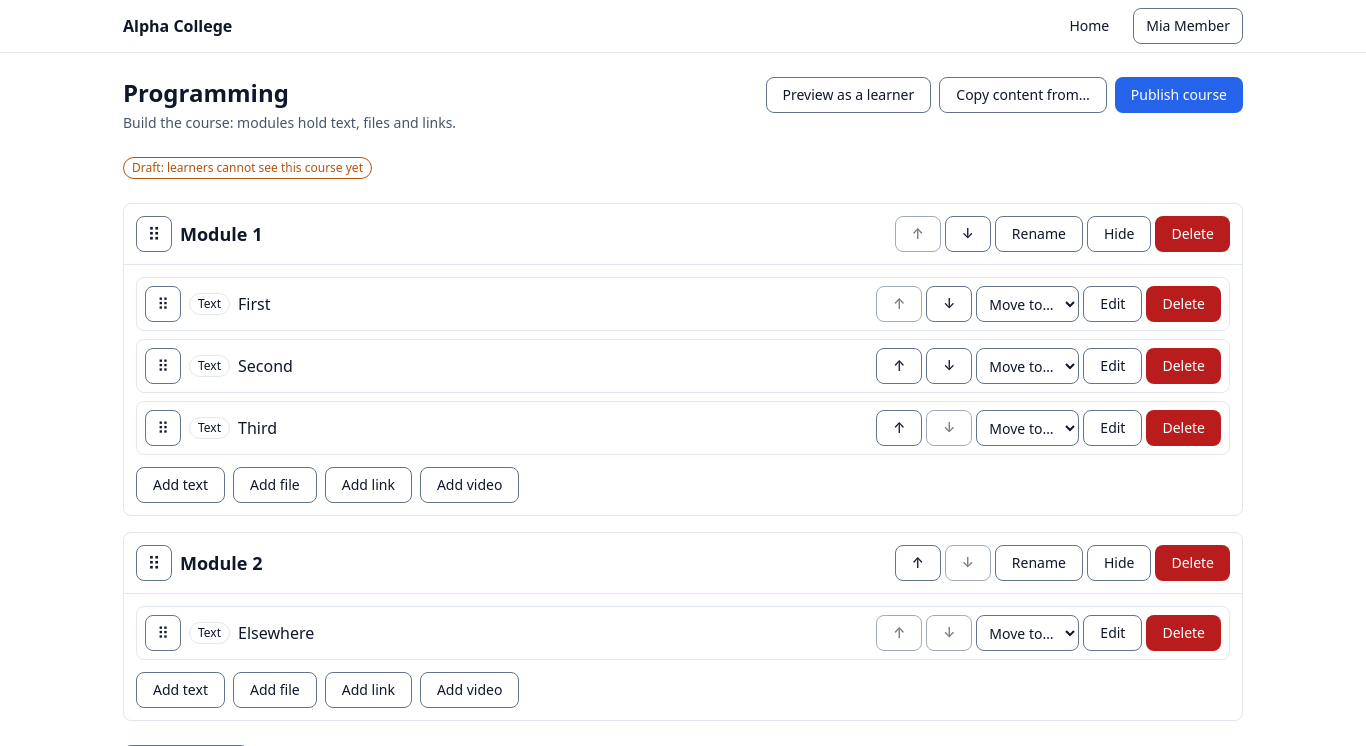
it: the builder › publishes the course from the builder
Click the button "Publish course": click(1179, 95) [1115,77,1243,113]
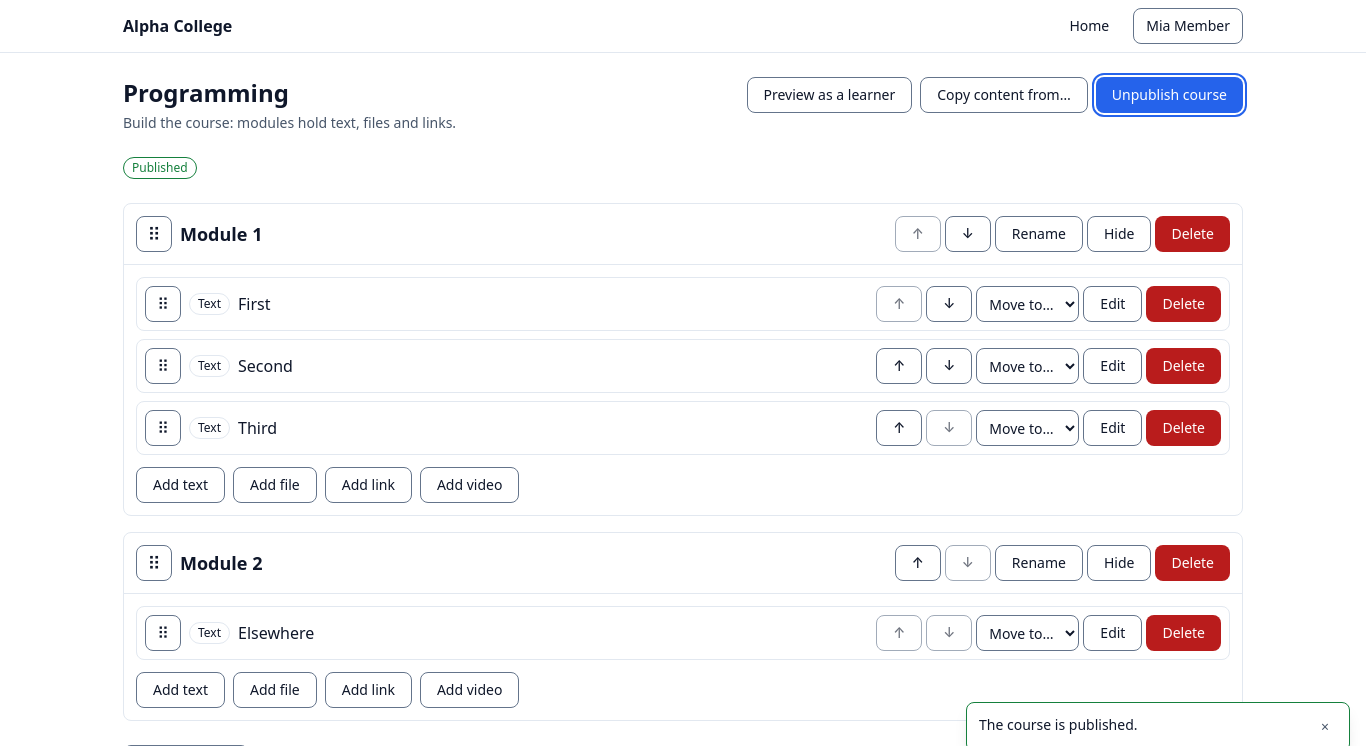
Result: the button "Unpublish course" is shown at [1096,77,1243,113]
